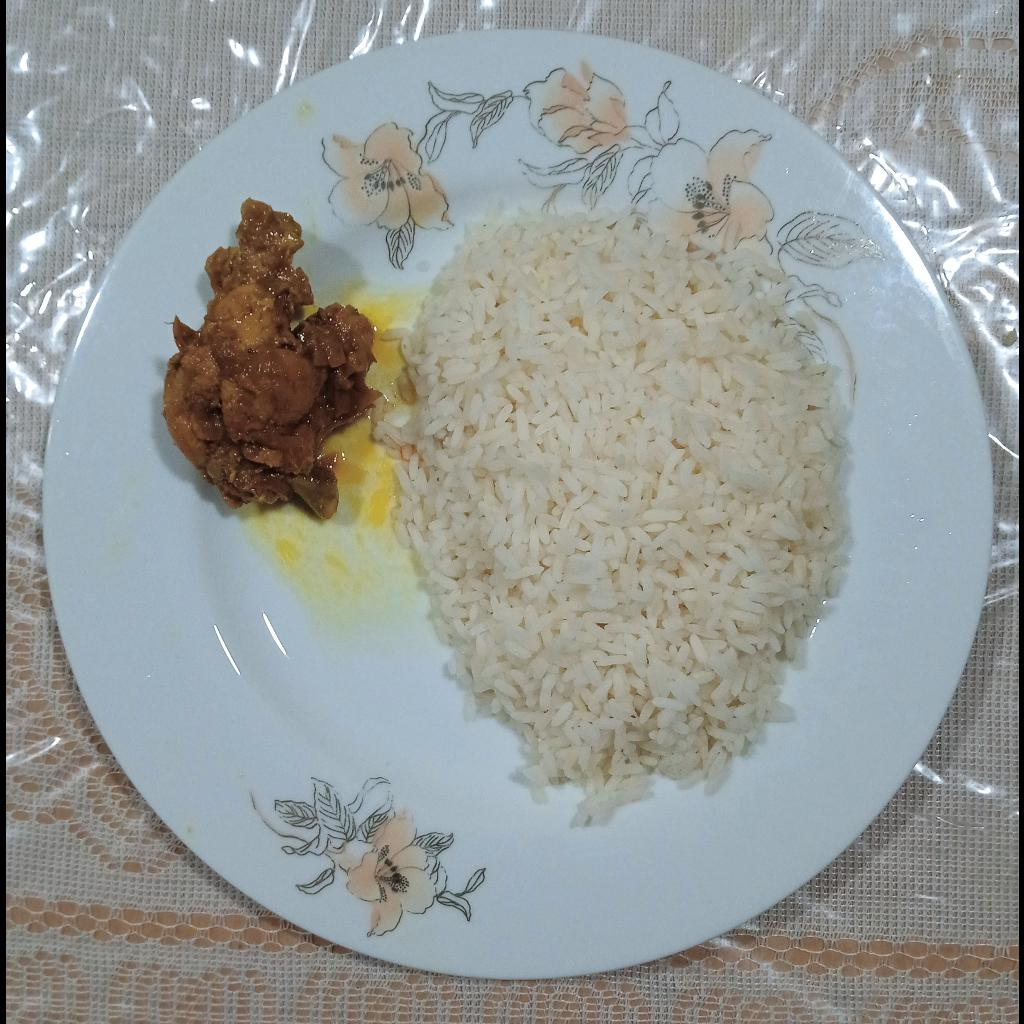chicken: (158, 202, 387, 526)
rice: (367, 210, 854, 825)
